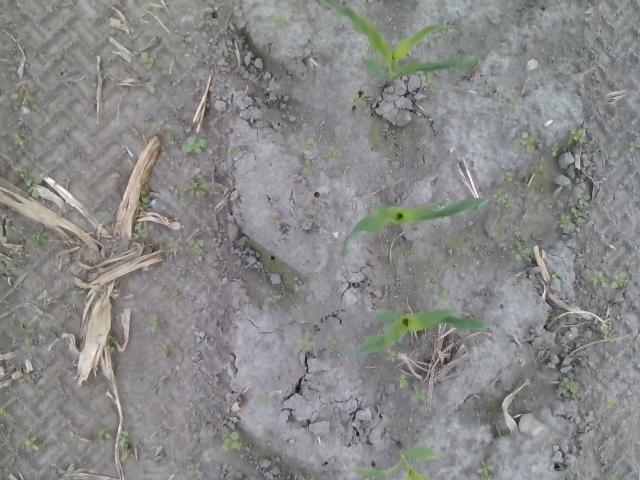Maize: (318, 0, 476, 83), (324, 302, 491, 358), (340, 196, 489, 253), (352, 440, 441, 480)
Weeds: (560, 192, 592, 232), (14, 162, 44, 199), (582, 269, 632, 289), (174, 170, 208, 198), (165, 236, 205, 256), (423, 271, 448, 299), (512, 128, 536, 152), (182, 134, 208, 154), (6, 88, 33, 106), (492, 188, 514, 208), (222, 430, 242, 452), (0, 394, 17, 418), (30, 231, 50, 251), (134, 221, 154, 240), (296, 136, 316, 154), (512, 245, 532, 263), (118, 430, 129, 462), (408, 386, 428, 403), (23, 326, 40, 346), (477, 460, 494, 480), (568, 126, 586, 144), (95, 202, 114, 218), (296, 340, 318, 353), (139, 50, 156, 66), (256, 392, 272, 409), (96, 424, 112, 441), (560, 376, 576, 393), (270, 14, 288, 29), (22, 435, 40, 450), (138, 189, 150, 211), (147, 312, 160, 331), (326, 144, 338, 164), (351, 91, 368, 105), (323, 334, 336, 352), (14, 133, 32, 145), (600, 399, 624, 408), (398, 372, 410, 389), (158, 342, 169, 360), (602, 332, 618, 344), (550, 140, 562, 156), (422, 71, 436, 84), (551, 270, 561, 288), (546, 350, 556, 368), (534, 158, 544, 176), (302, 159, 312, 175), (144, 80, 156, 93), (548, 430, 561, 442), (264, 216, 281, 225), (502, 170, 514, 182), (510, 96, 520, 110), (272, 292, 283, 304), (290, 326, 298, 342), (386, 353, 400, 362), (150, 119, 164, 128), (566, 468, 578, 478), (600, 32, 607, 48), (542, 306, 550, 320), (190, 463, 200, 474), (366, 195, 378, 204), (170, 290, 178, 302), (18, 376, 30, 384), (591, 55, 600, 65), (168, 134, 176, 145), (530, 472, 541, 480), (311, 377, 321, 385), (610, 472, 619, 480), (208, 210, 215, 220), (232, 146, 240, 154), (159, 286, 167, 294), (110, 335, 116, 344)
